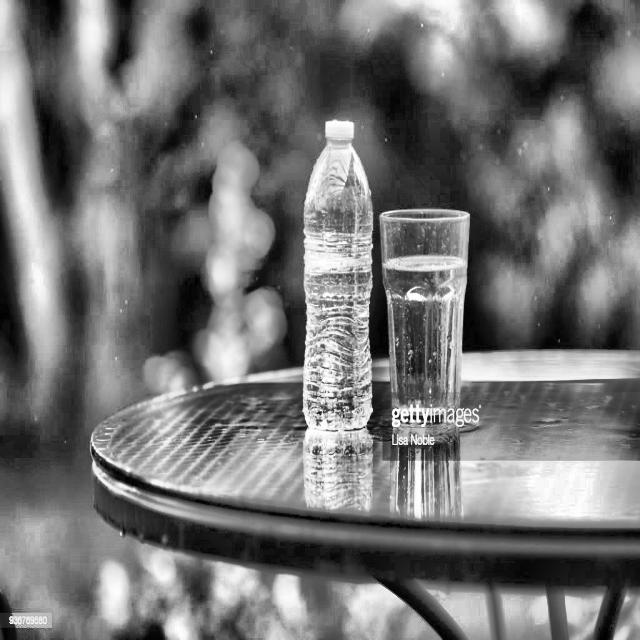waterbottle: (298, 110, 377, 434)
